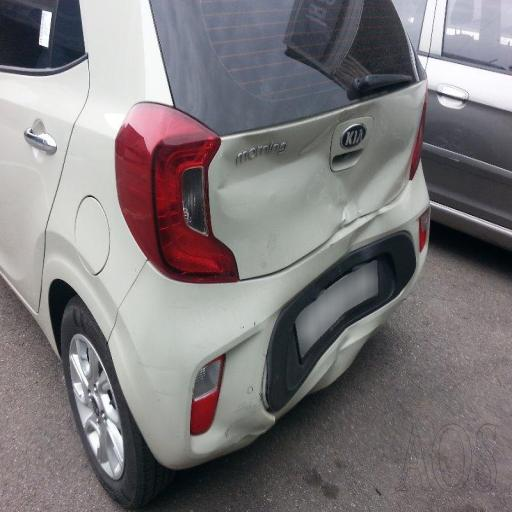dent: (177, 60, 447, 406)
